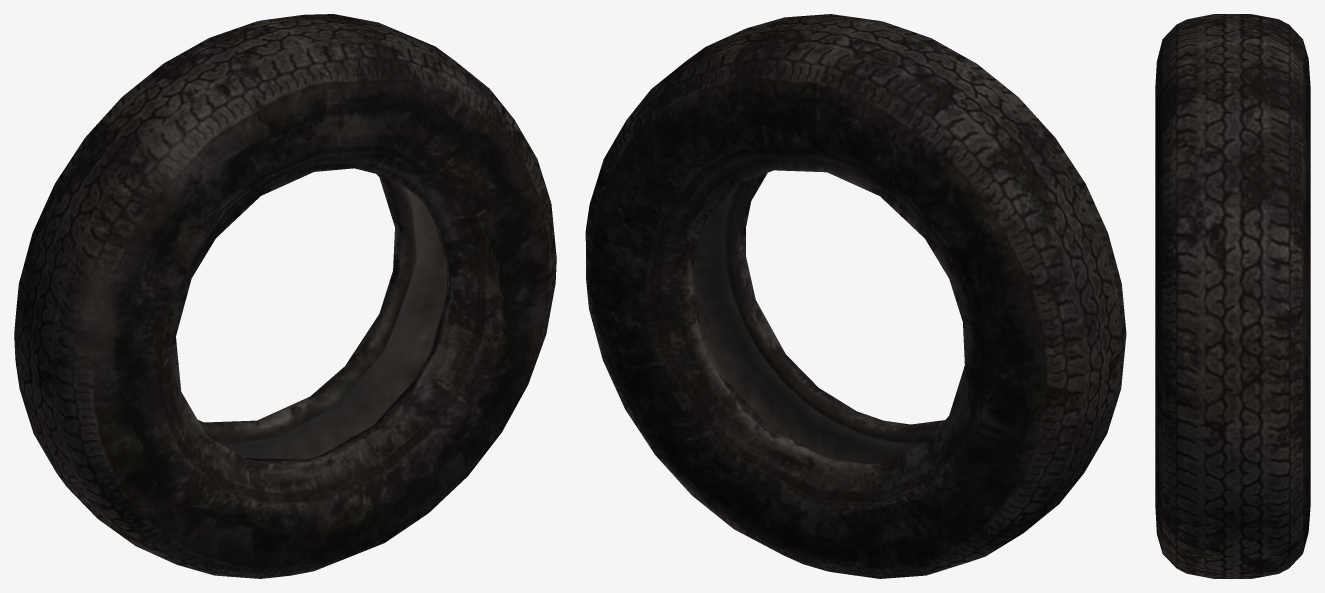
File: old_tyre.glb
The picture shows the model from 3 angles, left to right: view 1: azimuth 30°, elevation 25°; view 2: azimuth 150°, elevation 25°; view 3: azimuth 270°, elevation 25°; orthographic projection. The views are drawn at different scales.
Parts seen in each view (by area): view 1: old_tyre; view 2: old_tyre; view 3: old_tyre.
Boxes of the visible parts, x1,y1,x2,y2 form: old_tyre: [14, 14, 556, 578]; old_tyre: [585, 14, 1126, 578]; old_tyre: [1155, 14, 1310, 578].
Size of the model in its own units: 0.6 by 0.6 by 0.165.
Materials: 1 (1 with a texture image).
